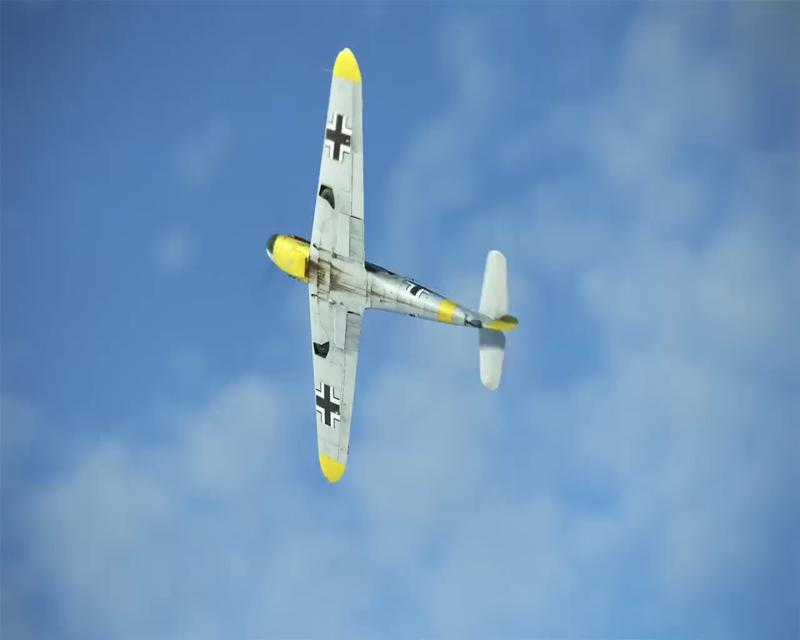UAV: (264, 45, 519, 483)
